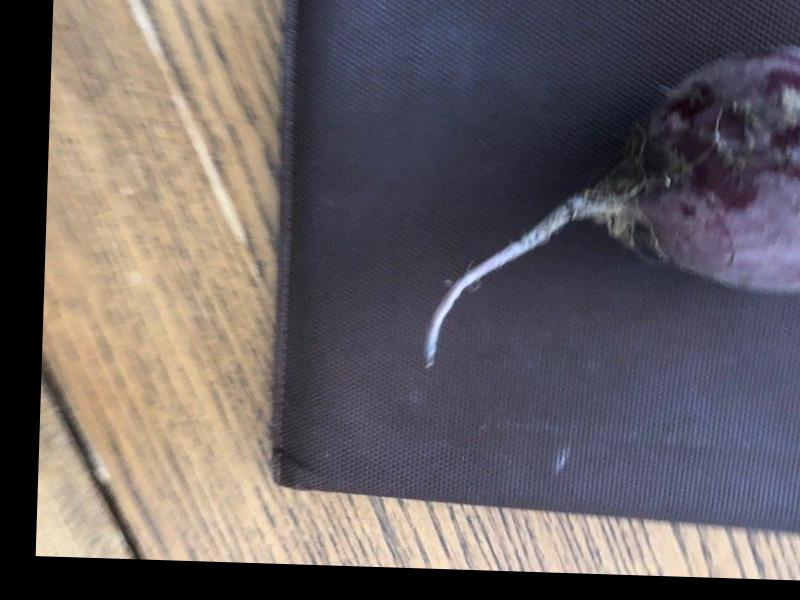Beet: (423, 35, 800, 377)
